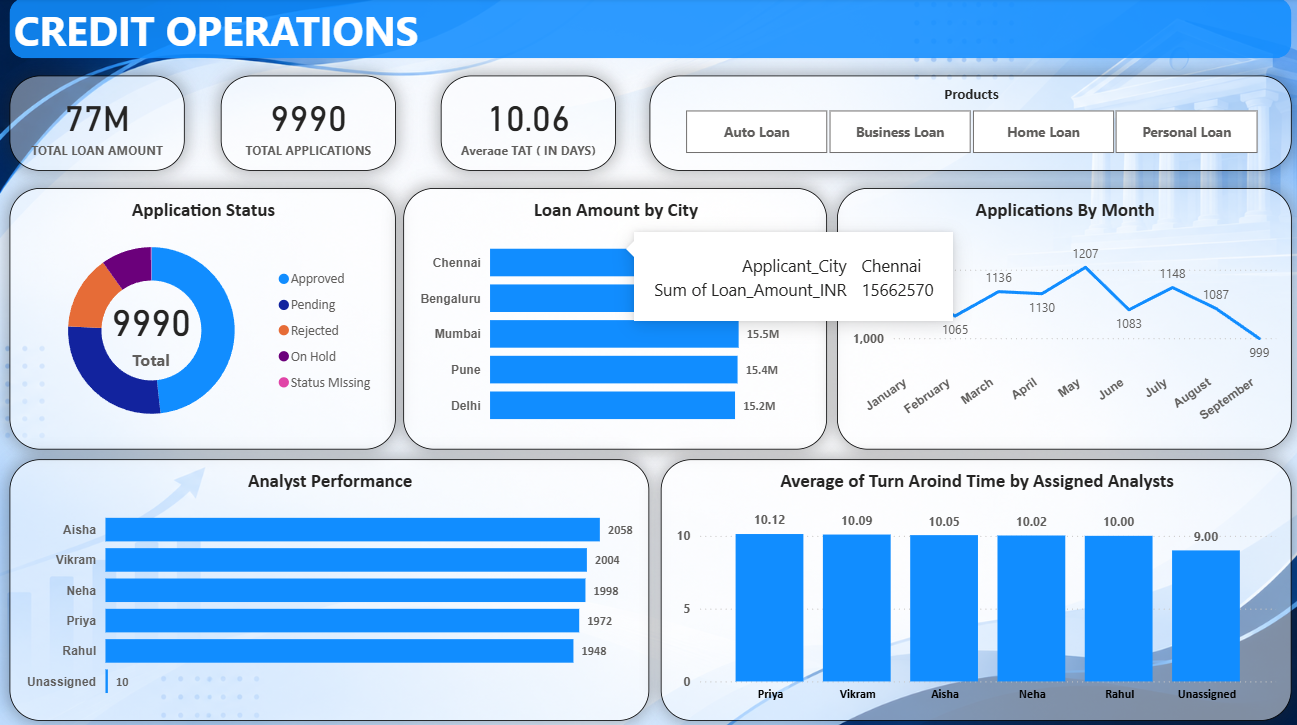

What the dashboard file says about the page in this screenshot:
{"tool":"powerbi","page":{"name":"Page 1","canvas":[1280,720],"ordinal":0},"visuals":[{"type":"card","fields":{"Values":["Sum(Clean_data.Loan_Amount_INR)"]},"box":[12.4,75.6,171.7,93.4],"z":0},{"type":"donutChart","title":"Application Status","fields":{"Category":["Clean_data.Application_Status"],"Y":["CountNonNull(Clean_data.Application_Status)"]},"box":[12.4,186.8,379.1,256.9],"z":1000},{"type":"clusteredBarChart","title":"Loan Amount by City","fields":{"Category":["Clean_data.Applicant_City"],"Y":["Sum(Clean_data.Loan_Amount_INR)"]},"box":[399.3,186.6,415.8,256.6],"z":2000},{"type":"lineChart","title":"Applications By Month","fields":{"Category":["Clean_data.Application_Date.Variation.Date Hierarchy.Month"],"Y":["CountNonNull(Clean_data.Application_ID)"]},"box":[824.2,186.8,446.4,256.9],"z":3000},{"type":"clusteredBarChart","title":"Analyst Performance","fields":{"Category":["Clean_data.Assigned_Analyst"],"Y":["CountNonNull(Clean_data.Application_ID)"]},"box":[12.4,453.3,627.8,256.9],"z":4000},{"type":"columnChart","title":"Average of Turn Aroind Time by Assigned Analysts","fields":{"Category":["Clean_data.Assigned_Analyst"],"Y":["Avg(Clean_data.Processing_TAT_Days)"]},"box":[651.1,453.3,619.5,256.9],"z":5000},{"type":"card","fields":{"Values":["Clean_data.Total Applications"]},"box":[83.8,273.4,136,105.8],"z":6000},{"type":"shape","box":[12.4,0,1258.3,59.1],"z":7000},{"type":"card","fields":{"Values":["CountNonNull(Clean_data.Application_ID)"]},"box":[219.8,75.6,171.7,93.4],"z":8000},{"type":"card","fields":{"Values":["Avg(Clean_data.Processing_TAT_Days)"]},"box":[435.5,75.6,171.7,93.4],"z":9000},{"type":"slicer","title":"Products","fields":{"Values":["Clean_data.Loan_Product"]},"box":[640.1,75.6,630.5,93.4],"z":10000}]}

Visuals, with their boxes in screenshot pixels (x1, y1, x2, y2), scaled from the page's 1280x720 canvas onto the 1297x725 screenshot:
card - Sum(Clean_data.Loan_Amount_INR): [x1=13, y1=76, x2=187, y2=170]
"Application Status" donutChart: [x1=13, y1=188, x2=397, y2=447]
"Loan Amount by City" clusteredBarChart: [x1=405, y1=188, x2=826, y2=446]
"Applications By Month" lineChart: [x1=835, y1=188, x2=1287, y2=447]
"Analyst Performance" clusteredBarChart: [x1=13, y1=456, x2=649, y2=715]
"Average of Turn Aroind Time by Assigned Analysts" columnChart: [x1=660, y1=456, x2=1287, y2=715]
card - Clean_data.Total Applications: [x1=85, y1=275, x2=223, y2=382]
shape: [x1=13, y1=0, x2=1288, y2=60]
card - CountNonNull(Clean_data.Application_ID): [x1=223, y1=76, x2=397, y2=170]
card - Avg(Clean_data.Processing_TAT_Days): [x1=441, y1=76, x2=615, y2=170]
"Products" slicer: [x1=649, y1=76, x2=1287, y2=170]
